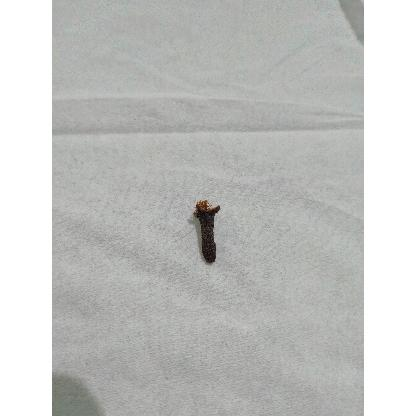buruk: (192, 200, 220, 265)
